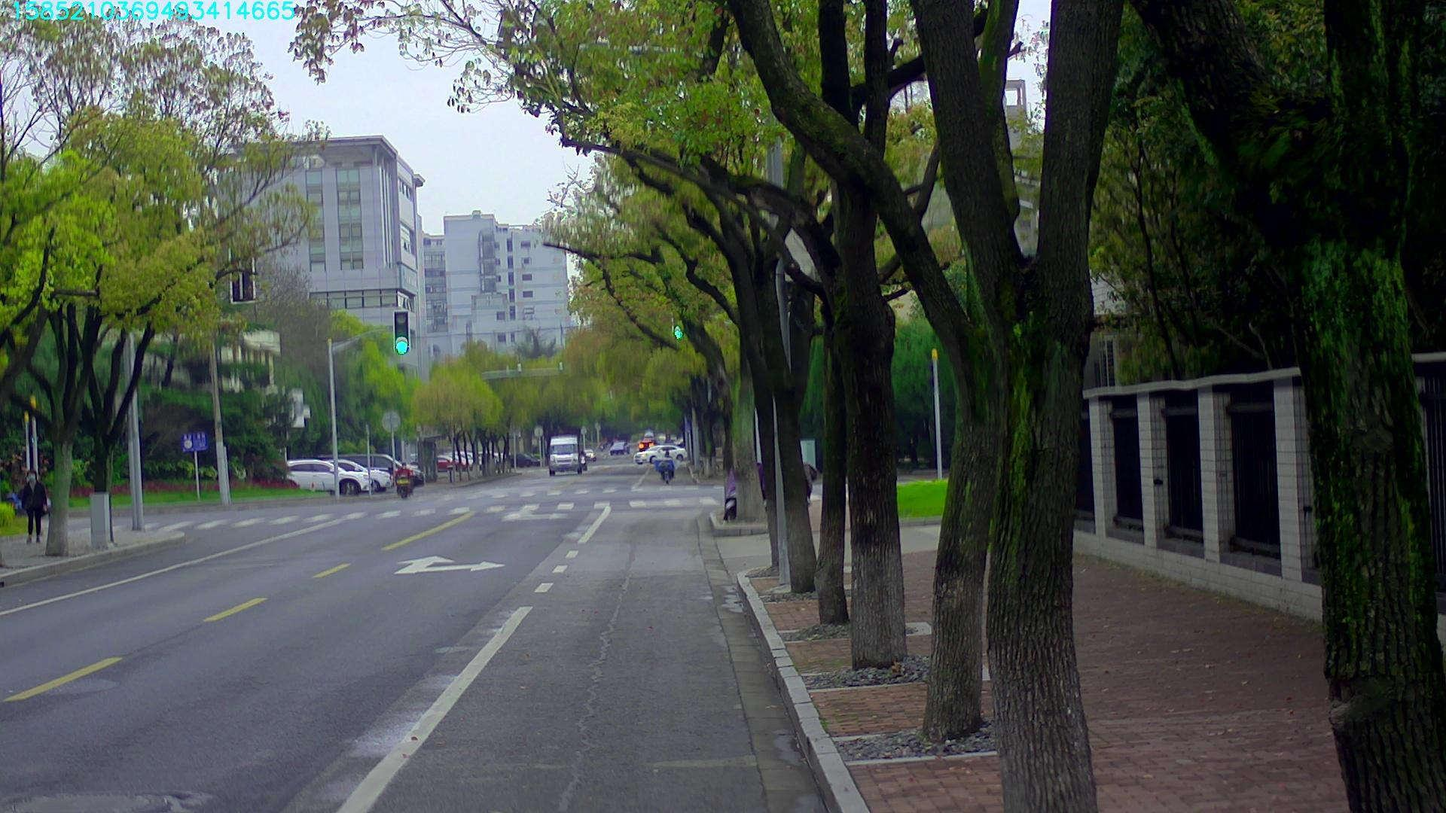green: (393, 309, 408, 354), (672, 313, 684, 338)
